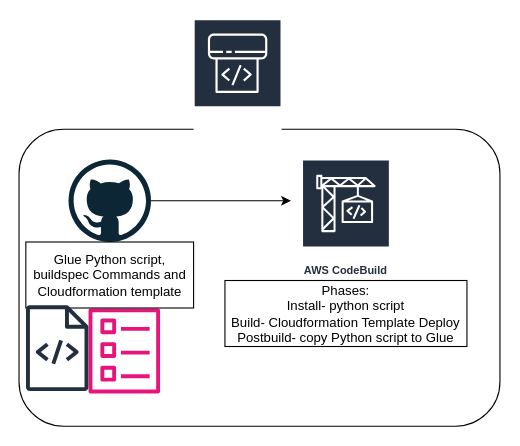
Image size: 520x446. Some labels were removed from this diagram. The centre of each missing label's shape, as x and y in pixels:
"AWS CodePipeline" belongs at (x=237, y=79).
"Cloudformation Template" belongs at (x=124, y=350).
